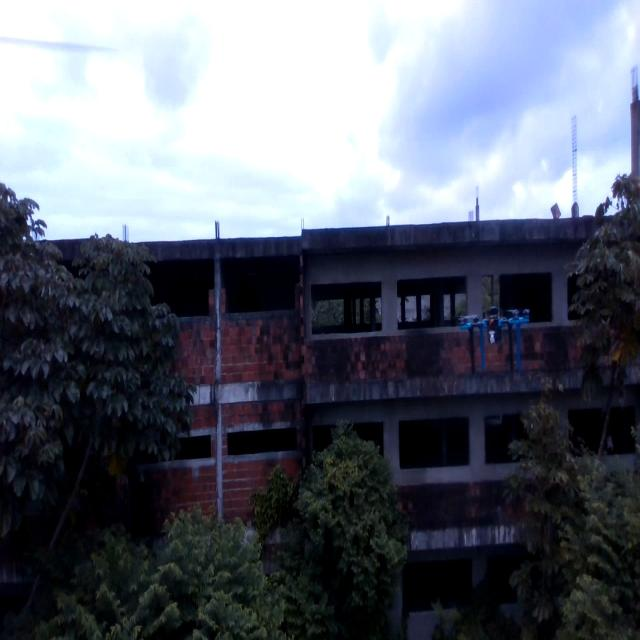-uav-: (452, 271, 536, 406)
